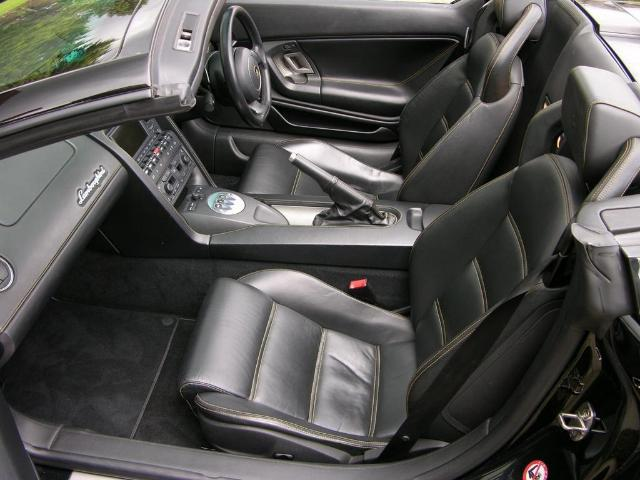Seatbelt: (366, 257, 556, 465)
